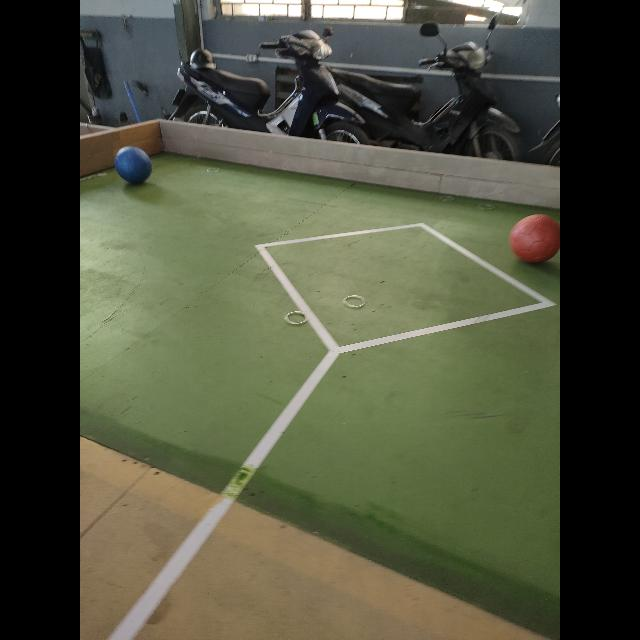B: (115, 147, 152, 183)
R: (510, 214, 560, 262)
